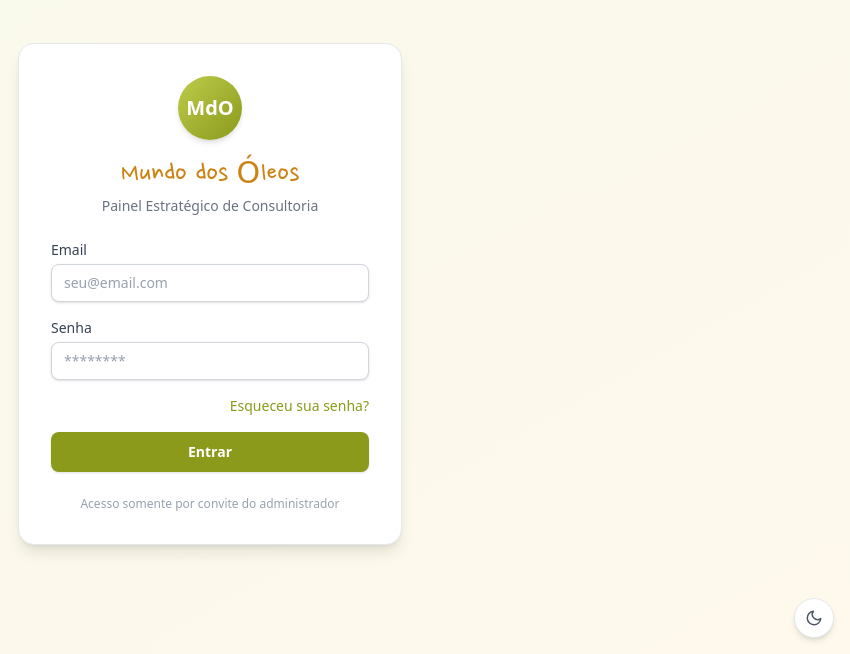
Scenario: LoginPage › shows error on failed login
Step 1. Type "test@test.com" into the field labelled "Email" → [210, 283], box [51,264,369,302]
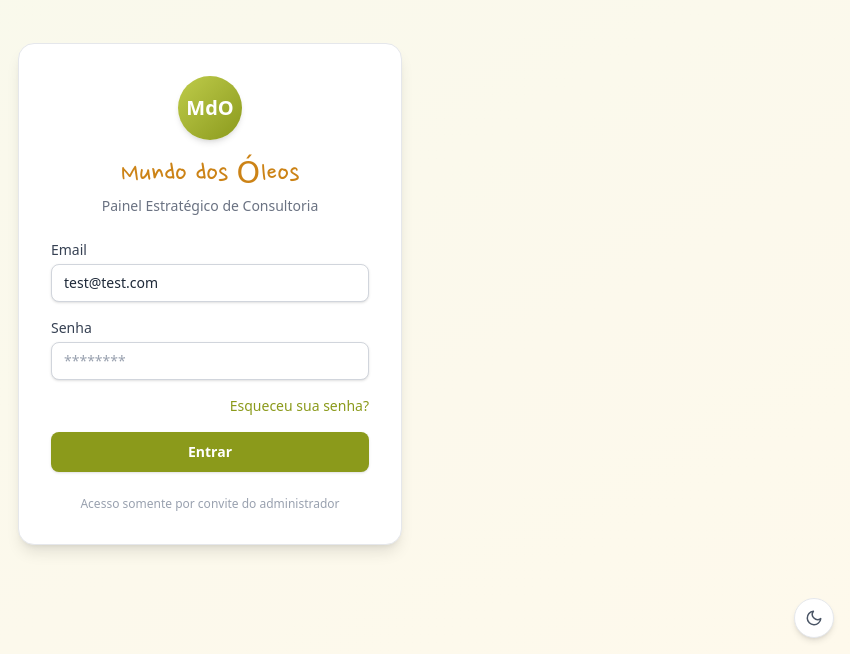
Step 2. Type "wrong" into the password field labelled "Senha" → [210, 361], box [51,342,369,380]
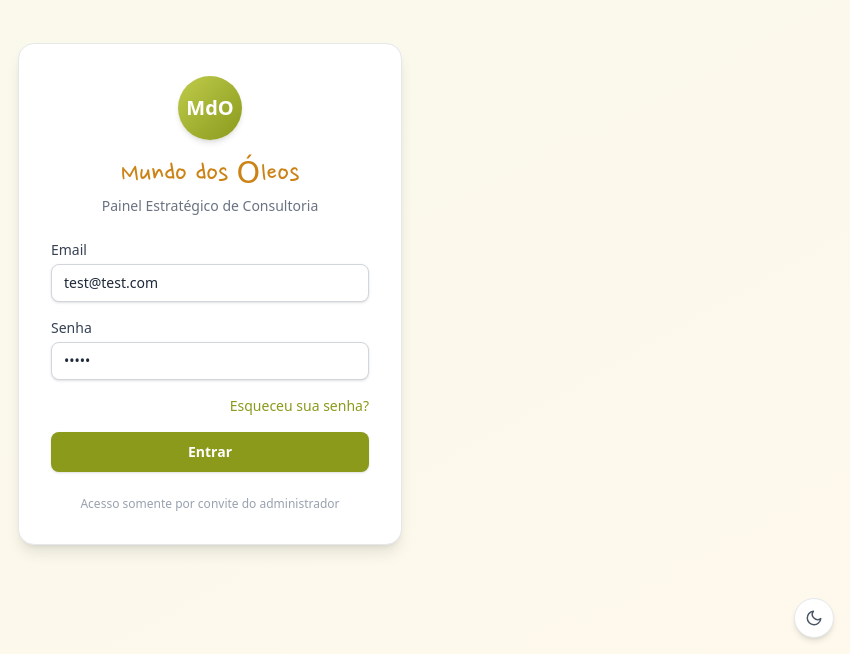
Step 3. Click the button "Entrar" → [210, 452], box [51,432,369,472]
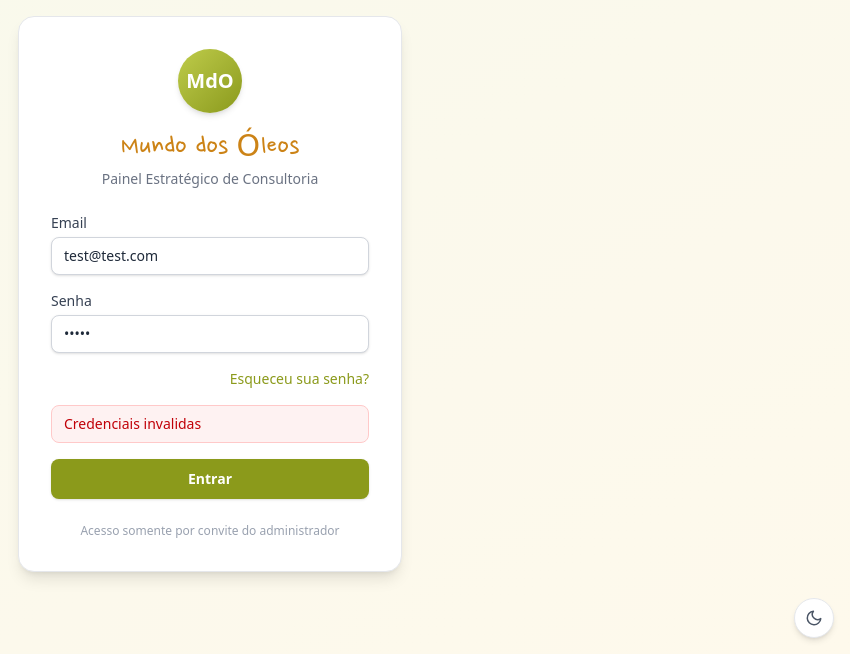
Now the text "Credenciais invalidas" is shown, box [51,405,369,443]
